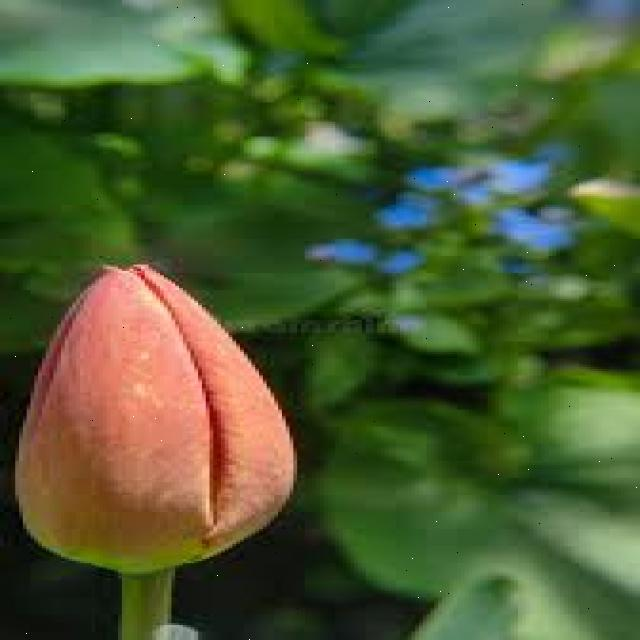Unbloomed: (23, 258, 312, 571)
